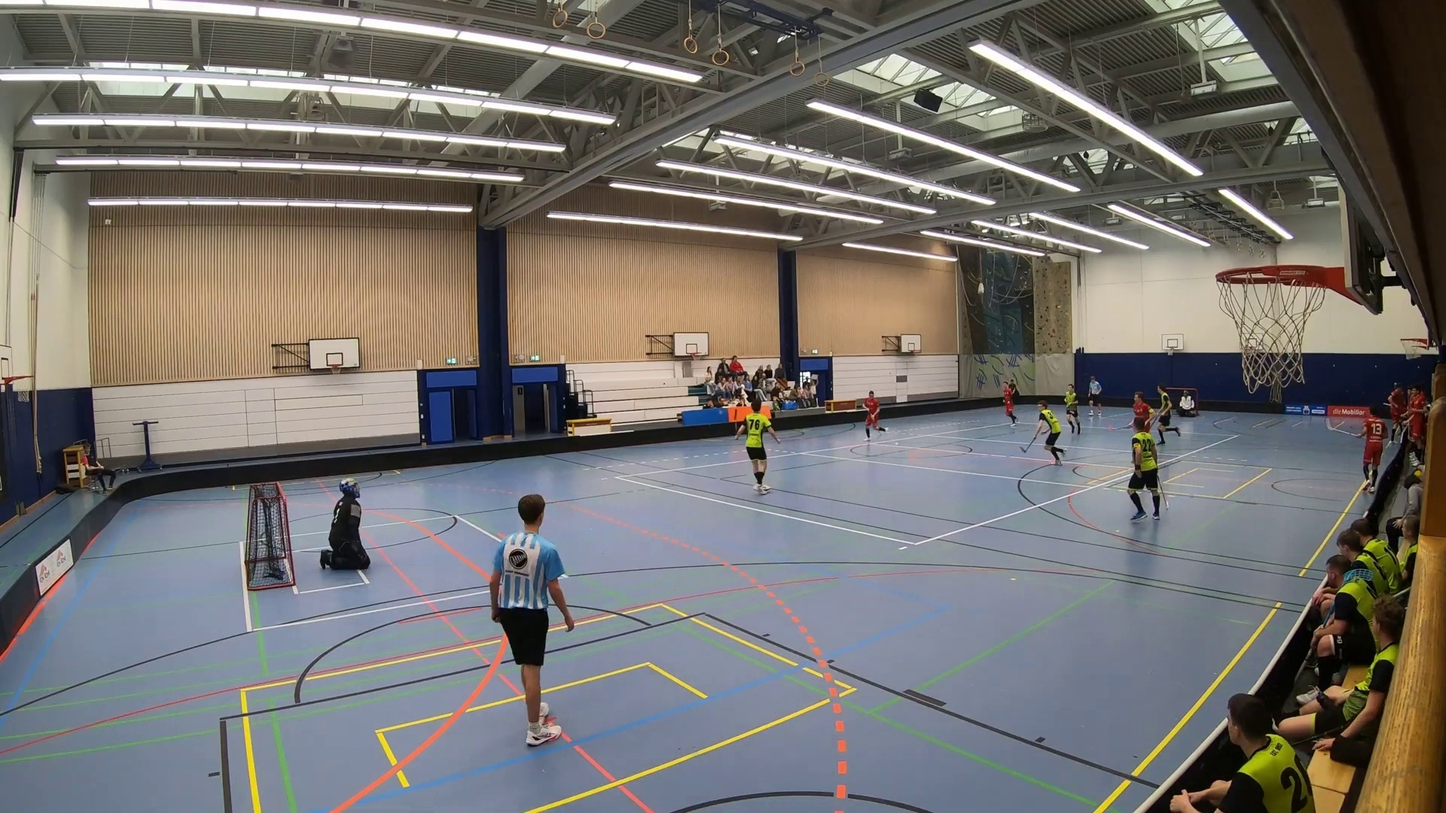Schiri: (463, 480, 612, 758), (1083, 368, 1106, 422)
ball: (892, 440, 901, 447)
goalkeeper: (320, 478, 370, 569), (1178, 388, 1197, 418)
player: (725, 390, 787, 503), (1119, 416, 1175, 527), (1323, 405, 1390, 493), (1017, 399, 1067, 468), (1110, 390, 1151, 442), (855, 387, 889, 449), (1152, 379, 1182, 445), (1381, 379, 1409, 443), (1058, 381, 1083, 444), (996, 379, 1021, 431)
